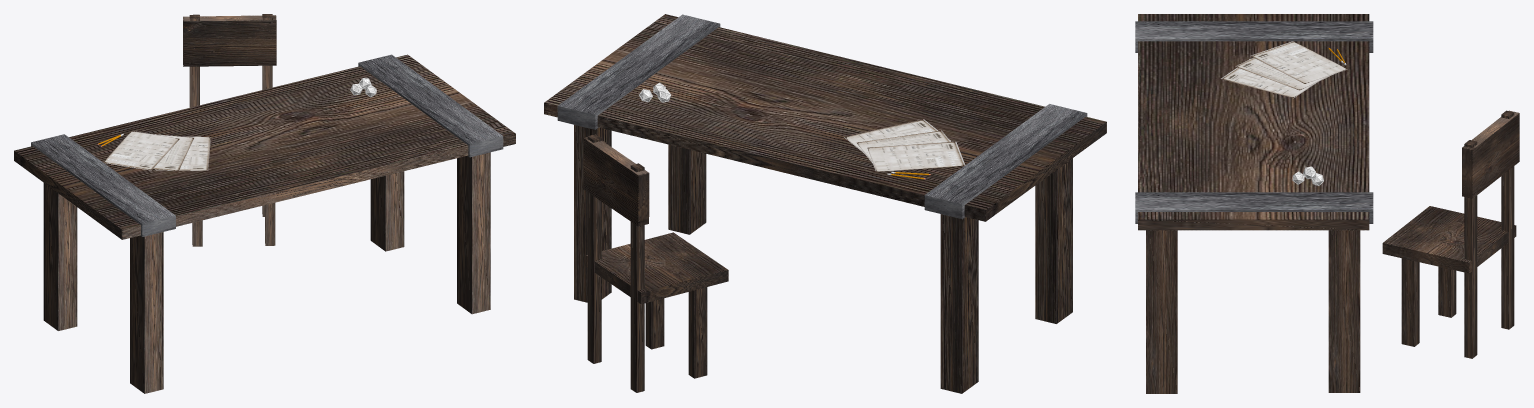
Rendered from table.glb.
3 views of the same model, side by side, from view 1: azimuth 30°, elevation 25°; view 2: azimuth 150°, elevation 25°; view 3: azimuth 270°, elevation 25° (orthographic). The views are drawn at different scales.
Visible parts, largest first — view 1: Cube, Cube.002, Cube.004, Cube.012, Cube.003, Cube.005, Cube.006, Cube.001, Plane.002, Plane, Plane.001, Cube.007 (+1 smaller); view 2: Cube, Cube.003, Cube.004, Cube.005, Cube.006, Cube.011, Cube.012, Cube.002, Cube.001, Cube.007, Cube.009, Plane.002 (+4 smaller); view 3: Cube, Cube.001, Cube.002, Cube.005, Cube.011, Cube.006, Cube.012, Cube.009, Cube.007, Plane.002, Cube.010, Plane (+2 smaller).
Part boxes in pixels (<box>): Cube: <box>14,54,515,239</box>; Cube.002: <box>457,152,490,314</box>; Cube.004: <box>130,232,163,393</box>; Cube.012: <box>183,15,276,66</box>; Cube.003: <box>43,183,77,330</box>; Cube.005: <box>31,134,175,236</box>; Cube.006: <box>358,54,503,157</box>; Cube.001: <box>370,171,404,251</box>; Plane.002: <box>103,131,179,170</box>; Plane: <box>156,136,210,170</box>; Plane.001: <box>152,134,193,170</box>; Cube.007: <box>189,14,199,107</box>; Cube: <box>544,14,1106,221</box>; Cube.003: <box>940,214,978,393</box>; Cube.004: <box>1035,158,1072,323</box>; Cube.005: <box>924,104,1087,218</box>; Cube.006: <box>557,14,720,129</box>; Cube.011: <box>586,232,728,304</box>; Cube.012: <box>583,137,649,226</box>; Cube.002: <box>668,144,706,234</box>; Cube.001: <box>574,124,611,302</box>; Cube.007: <box>630,163,644,392</box>; Cube.009: <box>587,134,601,363</box>; Plane.002: <box>867,141,965,171</box>; Cube: <box>1138,14,1369,230</box>; Cube.001: <box>1328,230,1360,392</box>; Cube.002: <box>1146,230,1177,393</box>; Cube.005: <box>1135,21,1373,52</box>; Cube.011: <box>1382,206,1516,273</box>; Cube.006: <box>1135,192,1373,223</box>; Cube.012: <box>1462,110,1519,198</box>; Cube.009: <box>1464,140,1477,358</box>; Cube.007: <box>1501,110,1514,329</box>; Plane.002: <box>1251,41,1347,83</box>; Cube.010: <box>1401,258,1419,346</box>; Plane: <box>1221,59,1315,98</box>.
Size of the model in its own units: 4.97 by 2.42 by 3.93.
17 materials, 10 textured.
